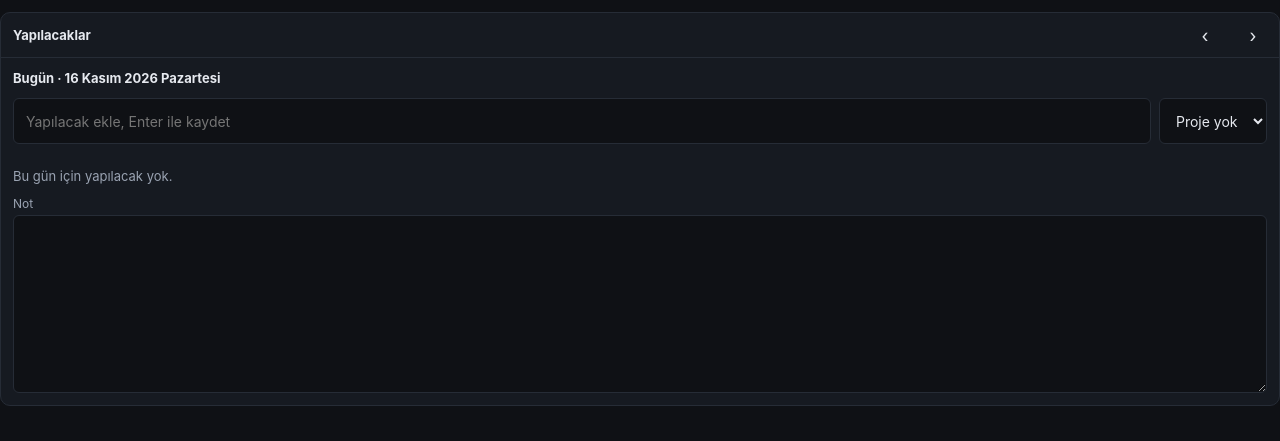
Scenario: TodoPanel › adds with a project tag chosen from the projects
Select "Beta" in the dropdown named "Yeni yapılacağın projesi" at [1213, 121], box top-left (1159, 98), bottom-right (1267, 144)
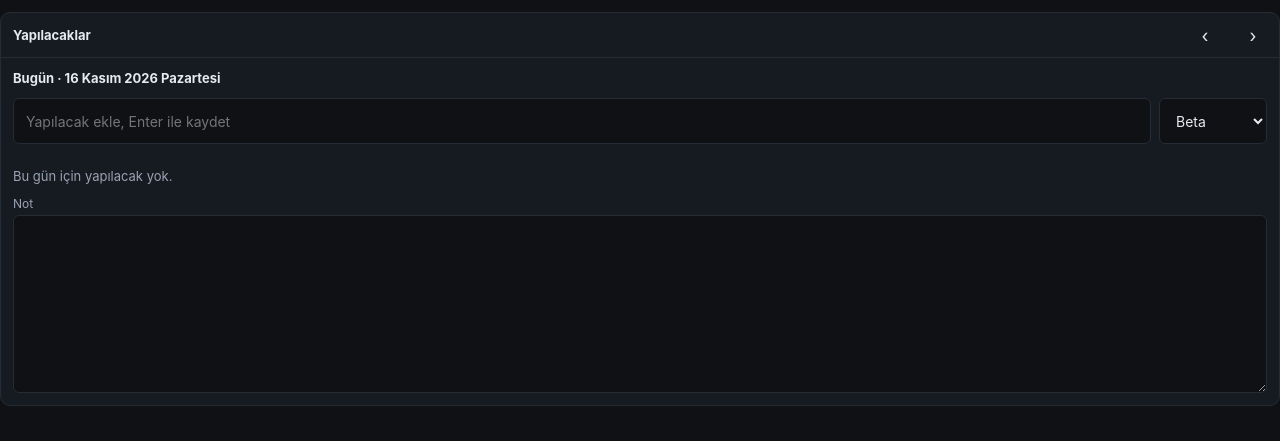
Type "Etiketli" into the field named "Yeni yapılacak" at [582, 121], box top-left (13, 98), bottom-right (1151, 144)
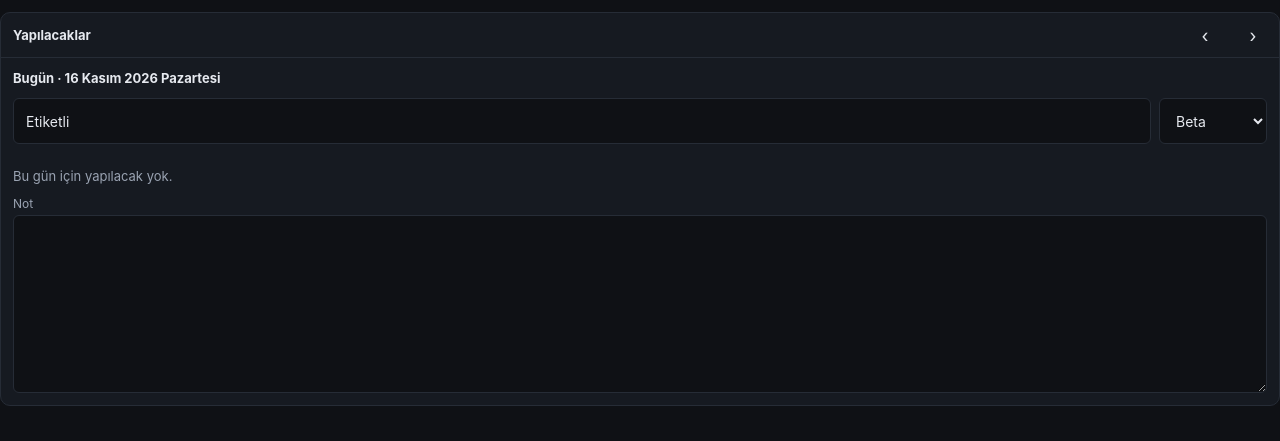
Press Enter in the field named "Yeni yapılacak", box top-left (13, 98), bottom-right (1151, 144)
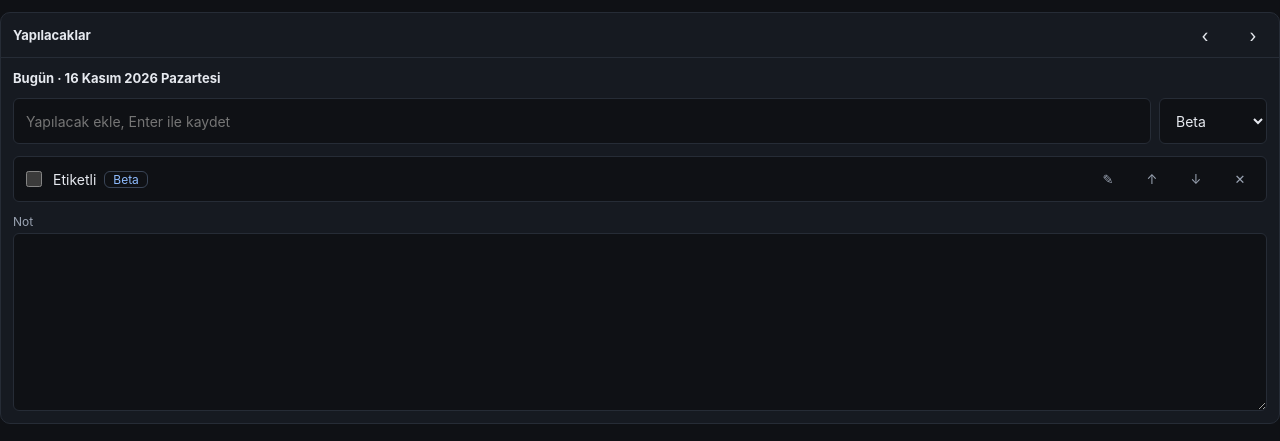
Now the text "Beta" is shown, box top-left (104, 170), bottom-right (148, 188)
